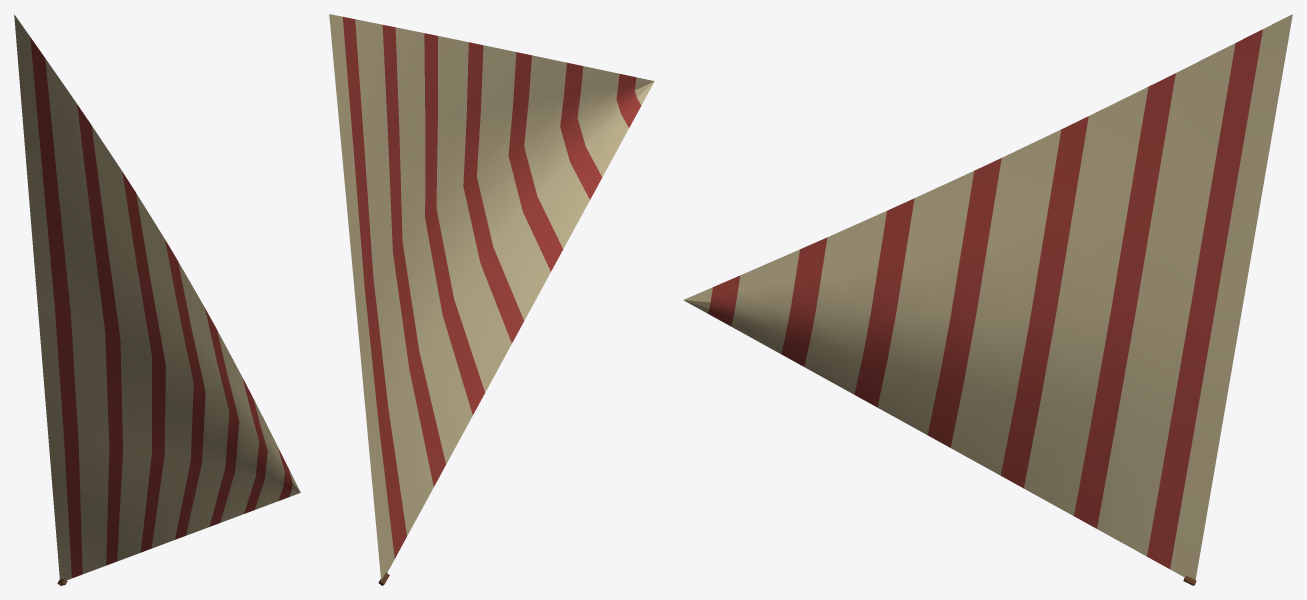
Rendered from amelioration--clinfoc.glb.
3 renders of one model, left to right at view 1: azimuth 30°, elevation 25°; view 2: azimuth 150°, elevation 25°; view 3: azimuth 270°, elevation 25°, orthographic. The views are drawn at different scales.
Parts seen in each view (by area): view 1: foc; view 2: foc; view 3: foc.
Boxes of the visible parts, <box> form: foc: <box>14,14,300,585</box>; foc: <box>329,14,654,585</box>; foc: <box>683,14,1292,585</box>.
Size of the model in its own units: 0.49 by 7.5 by 7.25.
